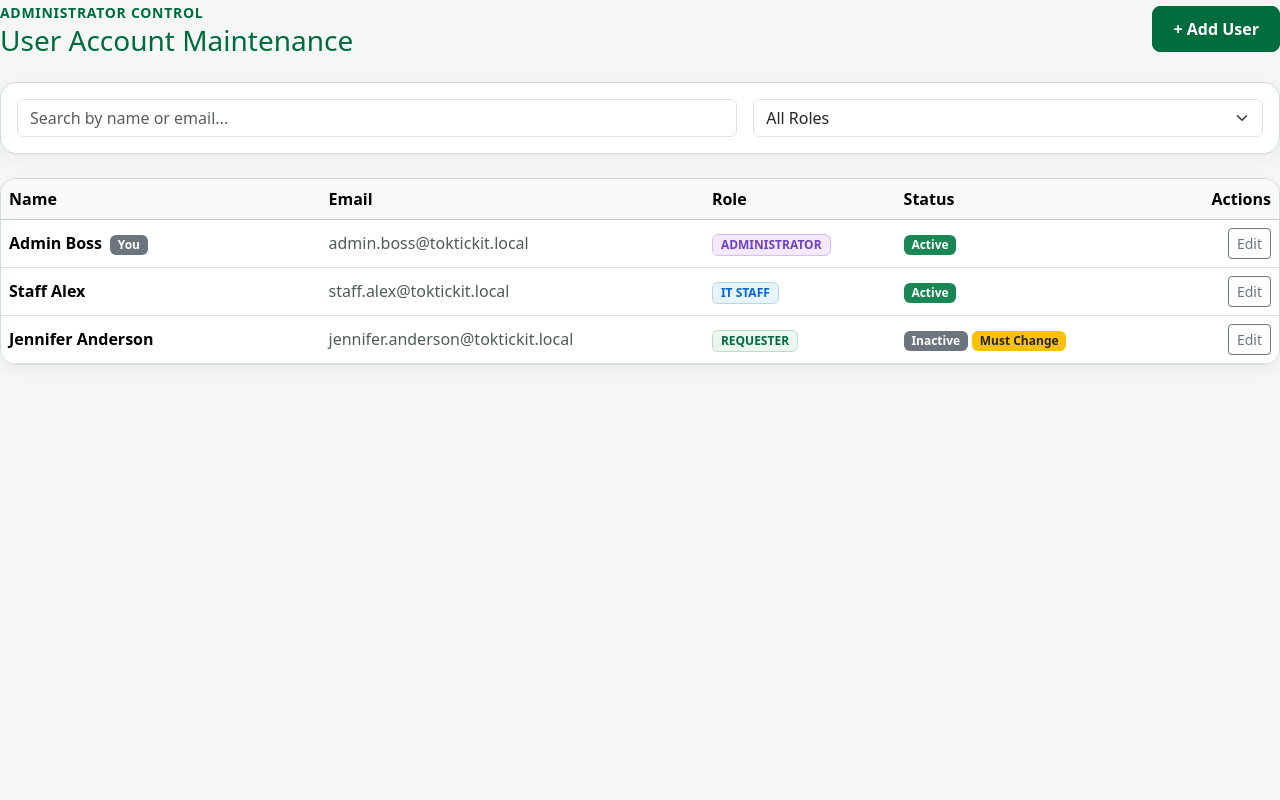
Scenario: Work Item 7: UserManagement Component (UI-05) › resets initial password inside edit modal (AC-22, BR-24)
The width and height of the screenshot is (1280, 800).
Check: the text "Staff Alex" is shown, box [9,280,85,302]
Click the button "Edit" in the row of "Staff Alex". click: (1249, 291)
box: [1228,276,1271,307]
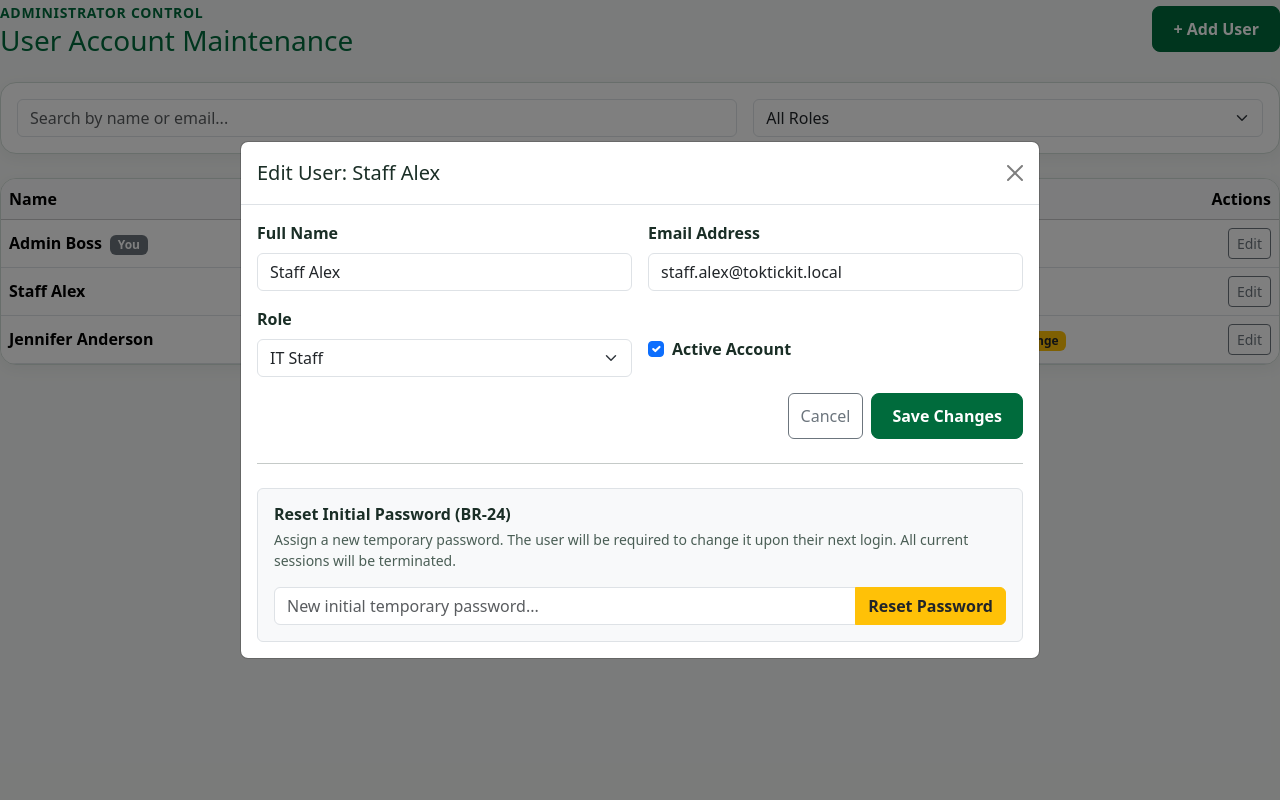
Type "TemporaryReset123!" into the password field named "New initial password". click: (565, 606)
box: [274,587,856,625]
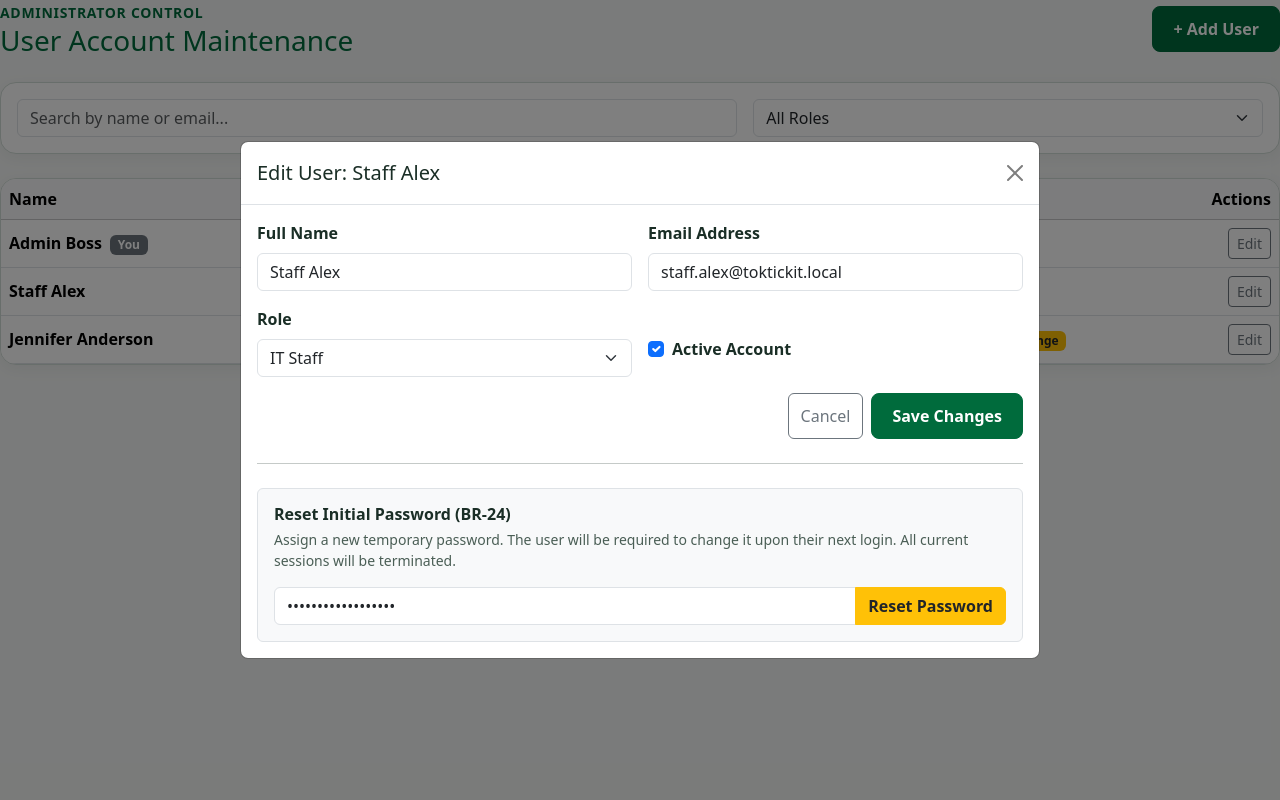
Click the button "Reset Password". click: (931, 606)
box: [855,587,1006,625]
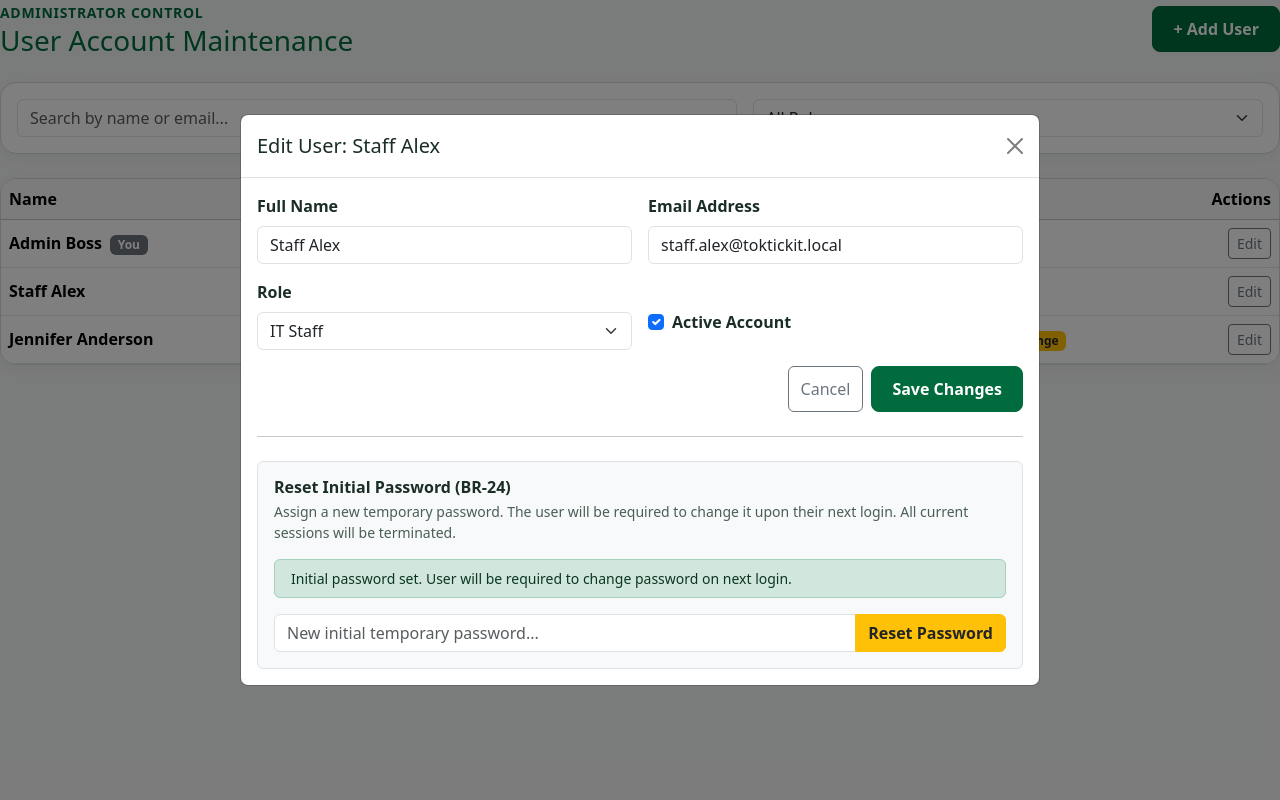
Check: the text "Initial password set. User will be required to change password on next login." is shown, box [274,559,1006,598]
